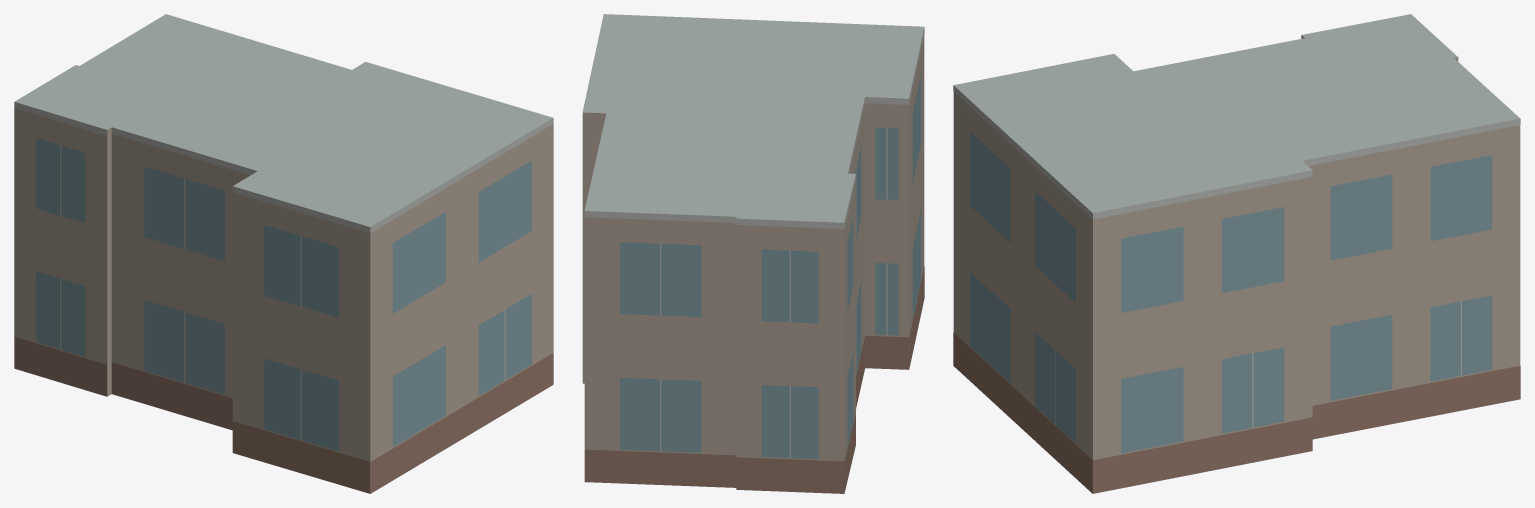
The model's file is survey-upis-32828464.glb.
3 views of the same model, side by side, from view 1: azimuth 30°, elevation 25°; view 2: azimuth 150°, elevation 25°; view 3: azimuth 270°, elevation 25° (orthographic). The views are drawn at different scales.
Visible parts, largest first — view 1: survey-upis-32828464.tmp; view 2: survey-upis-32828464.tmp; view 3: survey-upis-32828464.tmp.
Boxes of the visible parts, x1=… form: survey-upis-32828464.tmp: x1=14, y1=14, x2=553, y2=493; survey-upis-32828464.tmp: x1=582, y1=14, x2=924, y2=493; survey-upis-32828464.tmp: x1=953, y1=14, x2=1520, y2=493.
Bounding box in the file's own units: 16.08 × 10.56 × 19.34.
